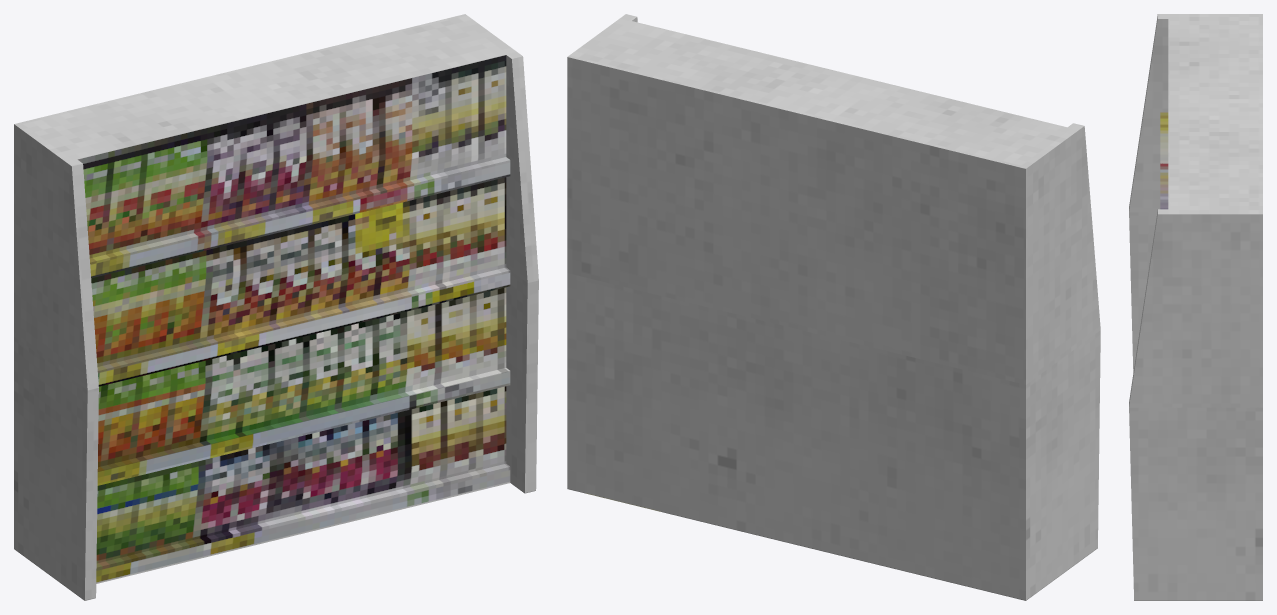
Rendered from Estante_jugos_002.fbx.
The picture shows the model from 3 angles, left to right: view 1: azimuth 30°, elevation 25°; view 2: azimuth 150°, elevation 25°; view 3: azimuth 270°, elevation 25°; orthographic projection. The views are drawn at different scales.
Visible parts, largest first — view 1: Estante_jugos_002; view 2: Estante_jugos_002; view 3: Estante_jugos_002.
Part boxes in pixels (box(x1,y1,x2,y2)): Estante_jugos_002: box(14, 14, 538, 600); Estante_jugos_002: box(567, 14, 1100, 600); Estante_jugos_002: box(1129, 14, 1262, 600).
Size of the model in its own units: 200 by 180 by 56.52.
1 material, 1 textured.
